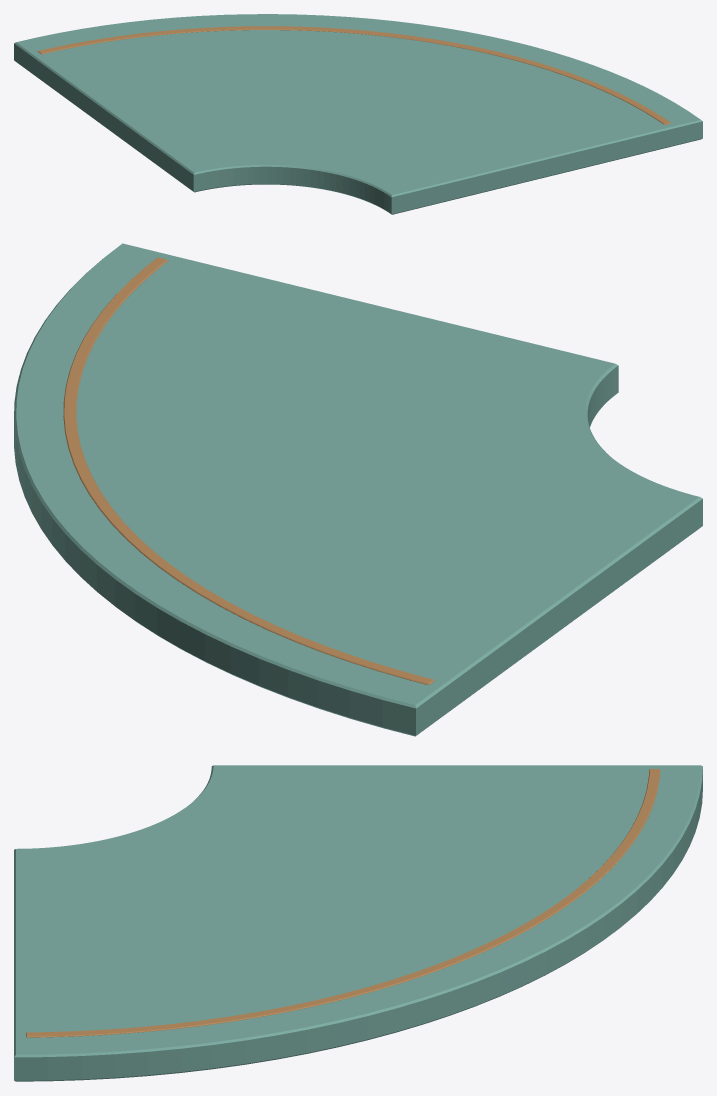
The picture shows the model from 3 angles, top to bottom: view 1: azimuth 30°, elevation 25°; view 2: azimuth 150°, elevation 25°; view 3: azimuth 270°, elevation 25°; orthographic projection. The views are drawn at different scales.
Visible parts, largest first — view 1: ContinuousAnnularPavement, ContinuousCurvedRaisedStripe; view 2: ContinuousAnnularPavement, ContinuousCurvedRaisedStripe; view 3: ContinuousAnnularPavement, ContinuousCurvedRaisedStripe.
Boxes of the visible parts, <box> form: ContinuousAnnularPavement: <box>14,14,702,214</box>; ContinuousCurvedRaisedStripe: <box>37,26,671,124</box>; ContinuousAnnularPavement: <box>14,243,702,736</box>; ContinuousCurvedRaisedStripe: <box>63,257,434,685</box>; ContinuousAnnularPavement: <box>14,765,702,1081</box>; ContinuousCurvedRaisedStripe: <box>26,769,660,1037</box>.
Bounding box in the file's own units: 2.79 × 0.124 × 2.79.
